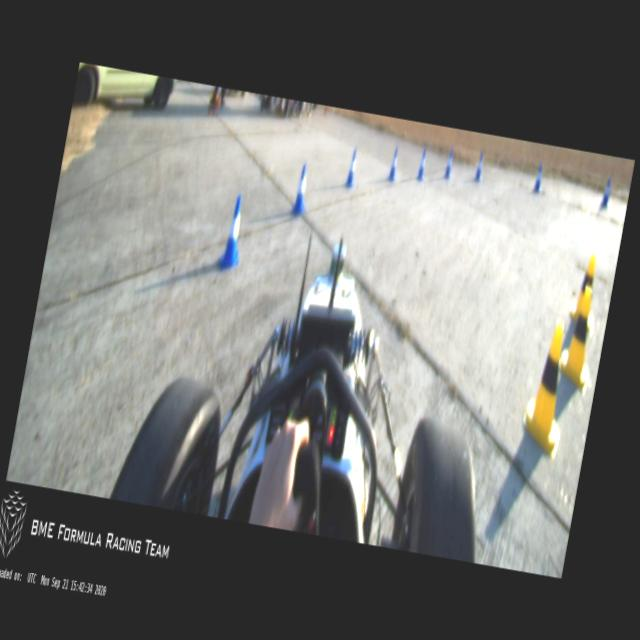blue_cone: (217, 192, 249, 272), (290, 162, 312, 218), (344, 147, 359, 188), (530, 161, 546, 193), (386, 147, 400, 182), (472, 150, 487, 182), (598, 177, 612, 210), (415, 147, 428, 182), (442, 148, 455, 180)
yellow_cone: (518, 314, 579, 456), (555, 282, 603, 388), (565, 252, 602, 332)
